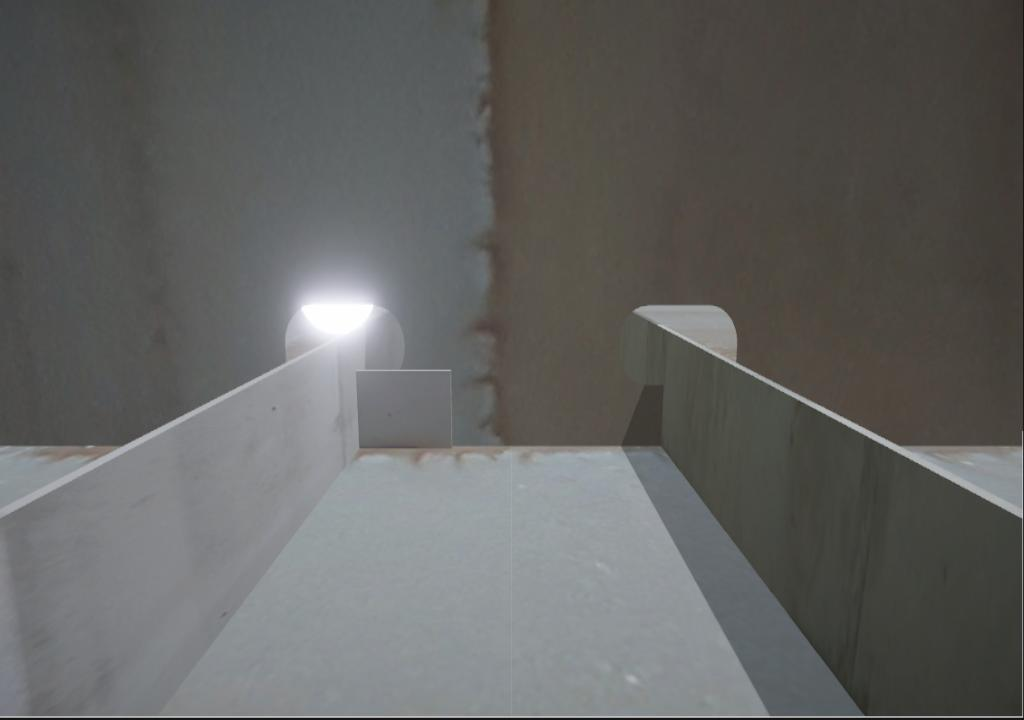fillet_yong_jeop_jang: (450, 439, 664, 454)
longi_yong_jeop_jang: (649, 382, 669, 452)
plate_CP01: (355, 370, 452, 449)
